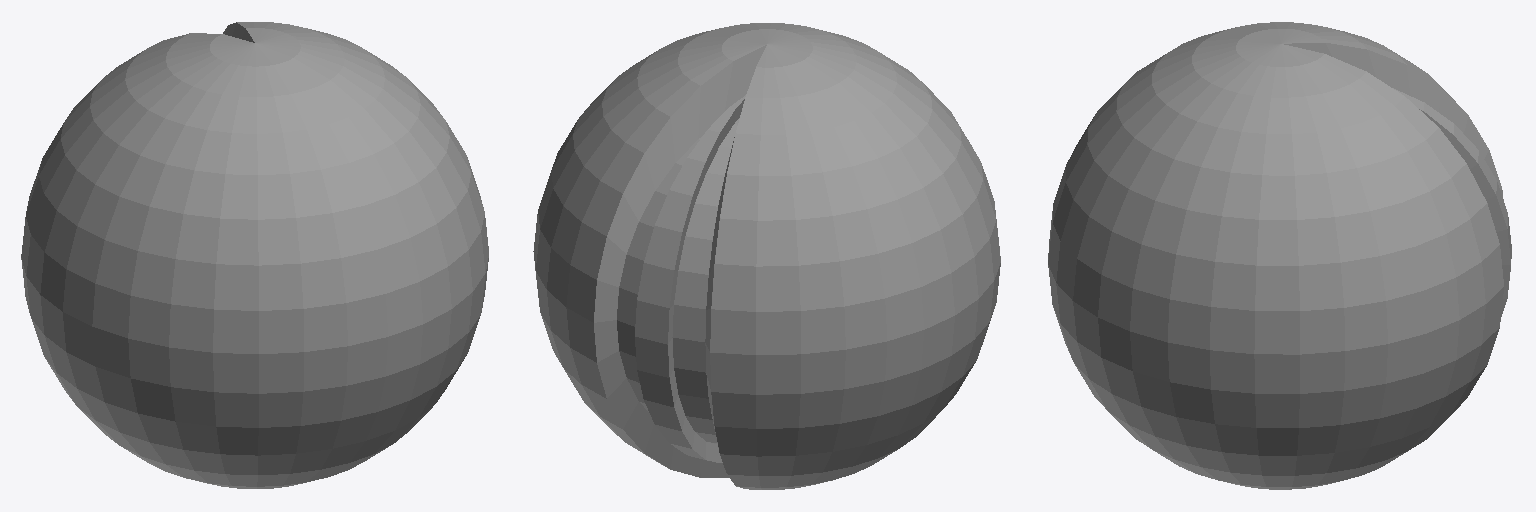
File: cthun-uv.obj
3 renders of one model, left to right at view 1: azimuth 30°, elevation 25°; view 2: azimuth 150°, elevation 25°; view 3: azimuth 270°, elevation 25°, orthographic.
Parts seen in each view (by area): view 1: Sphere; view 2: Sphere; view 3: Sphere.
Part boxes in pixels (left/top/right/bottom): Sphere: left=21, top=22, right=488, bottom=488; Sphere: left=533, top=23, right=1000, bottom=489; Sphere: left=1048, top=22, right=1511, bottom=489.
Size of the model in its own units: 5.98 by 6 by 5.94.